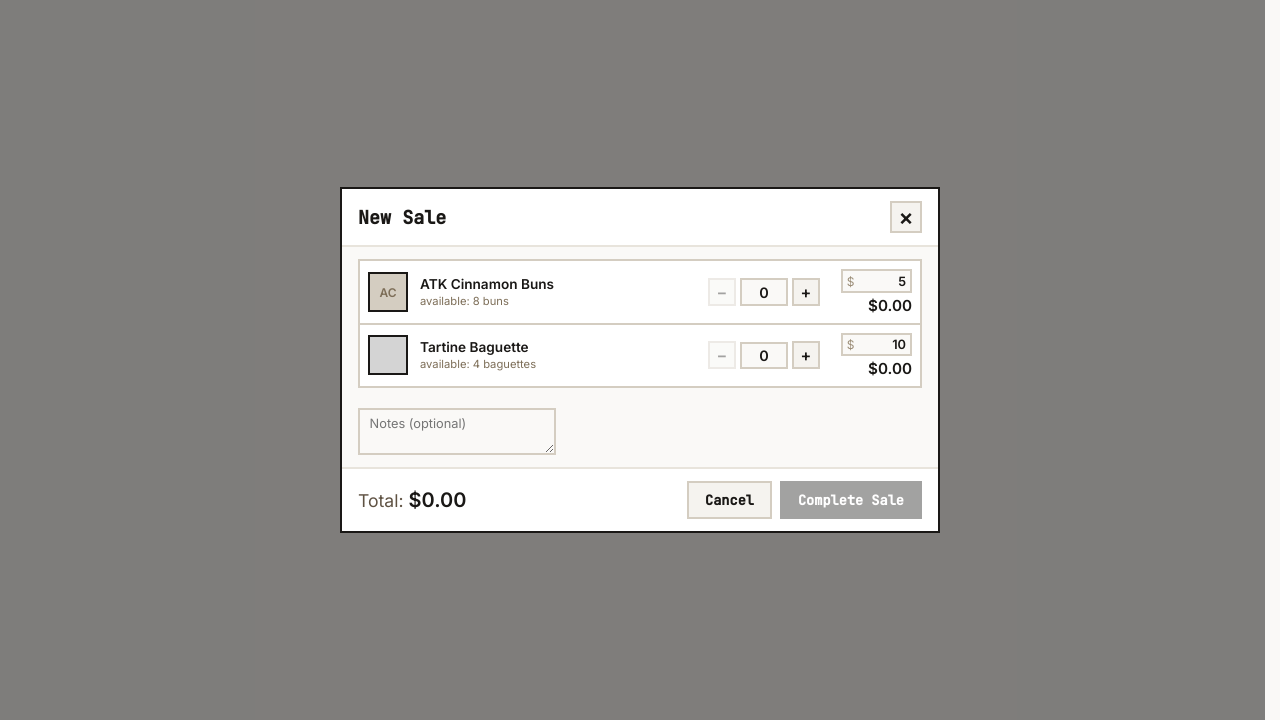
Test: NewSaleSheet › price override per line is reflected in total
Click the button with test id "new-sale-inc-r1": coordinates (806, 292) [792,278,820,306]
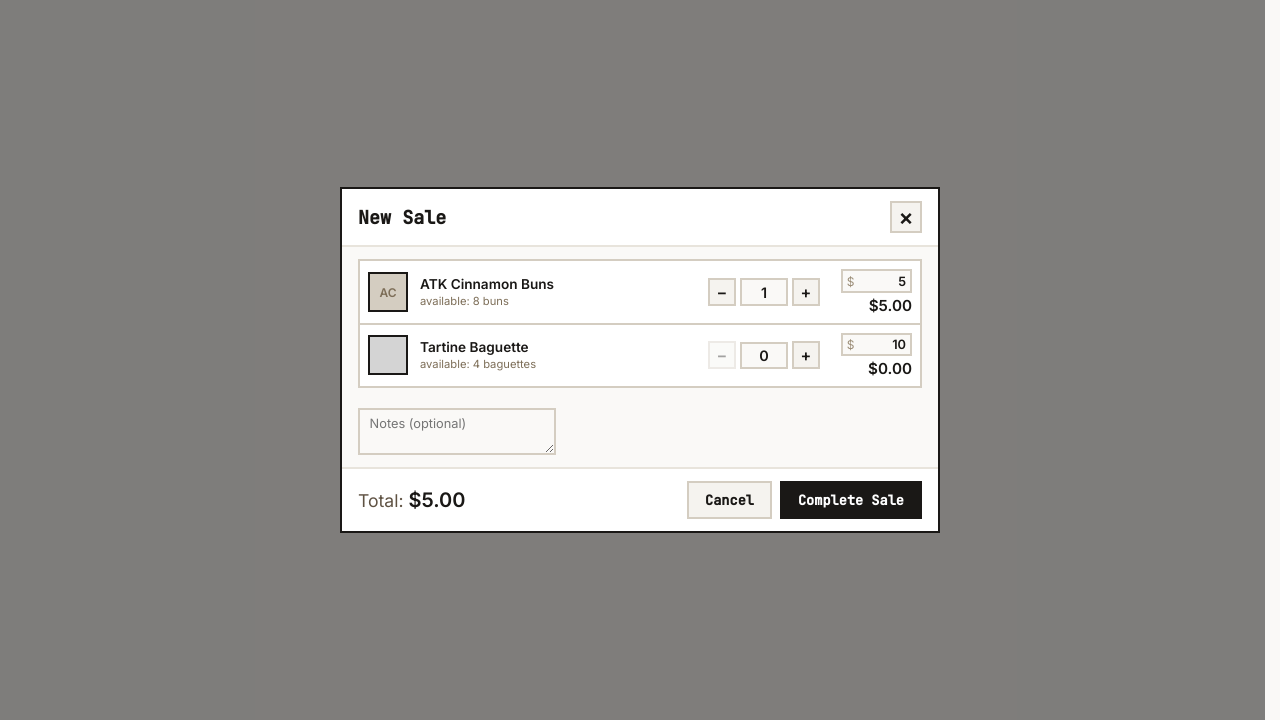
Replace the text in the number field with test id "new-sale-price-r1" with "3.50": coordinates (881, 281) [856,274,906,289]
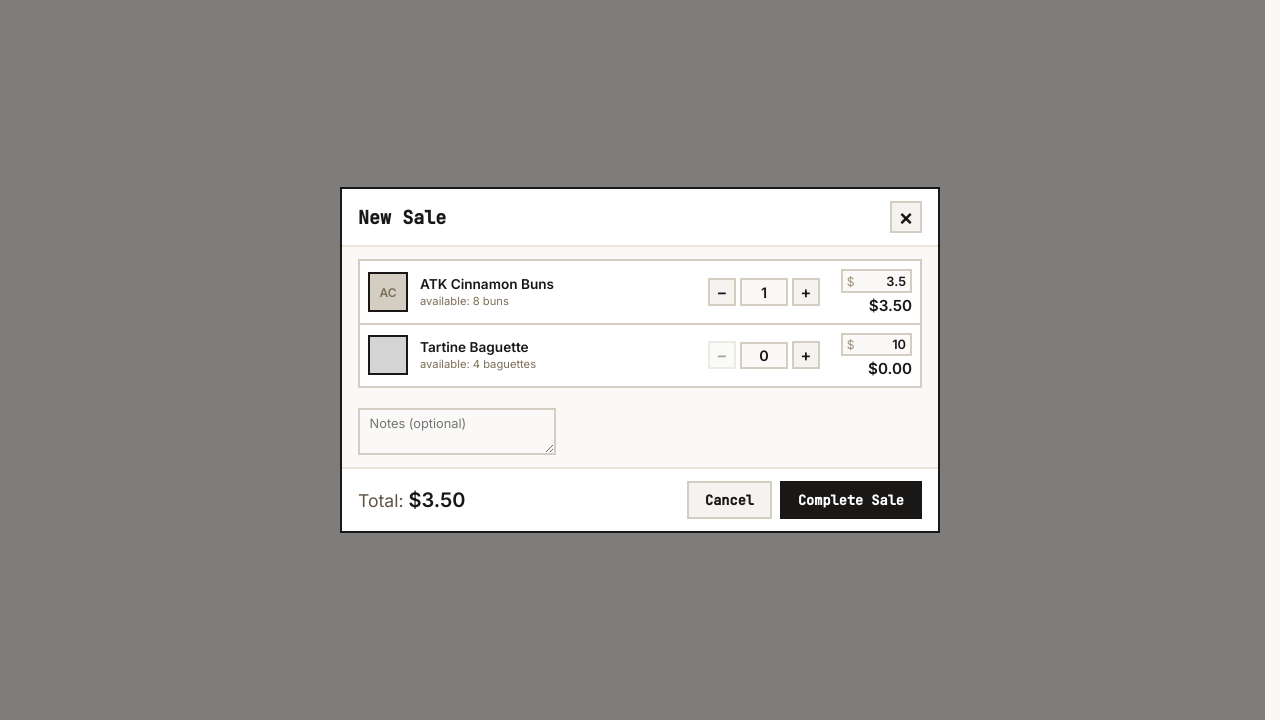
Now the text with test id "new-sale-linetotal-r1" reads "$3.50", box [869,296,912,315]
Now the element with test id "new-sale-total" shows "$3.50", box [408,488,466,512]
